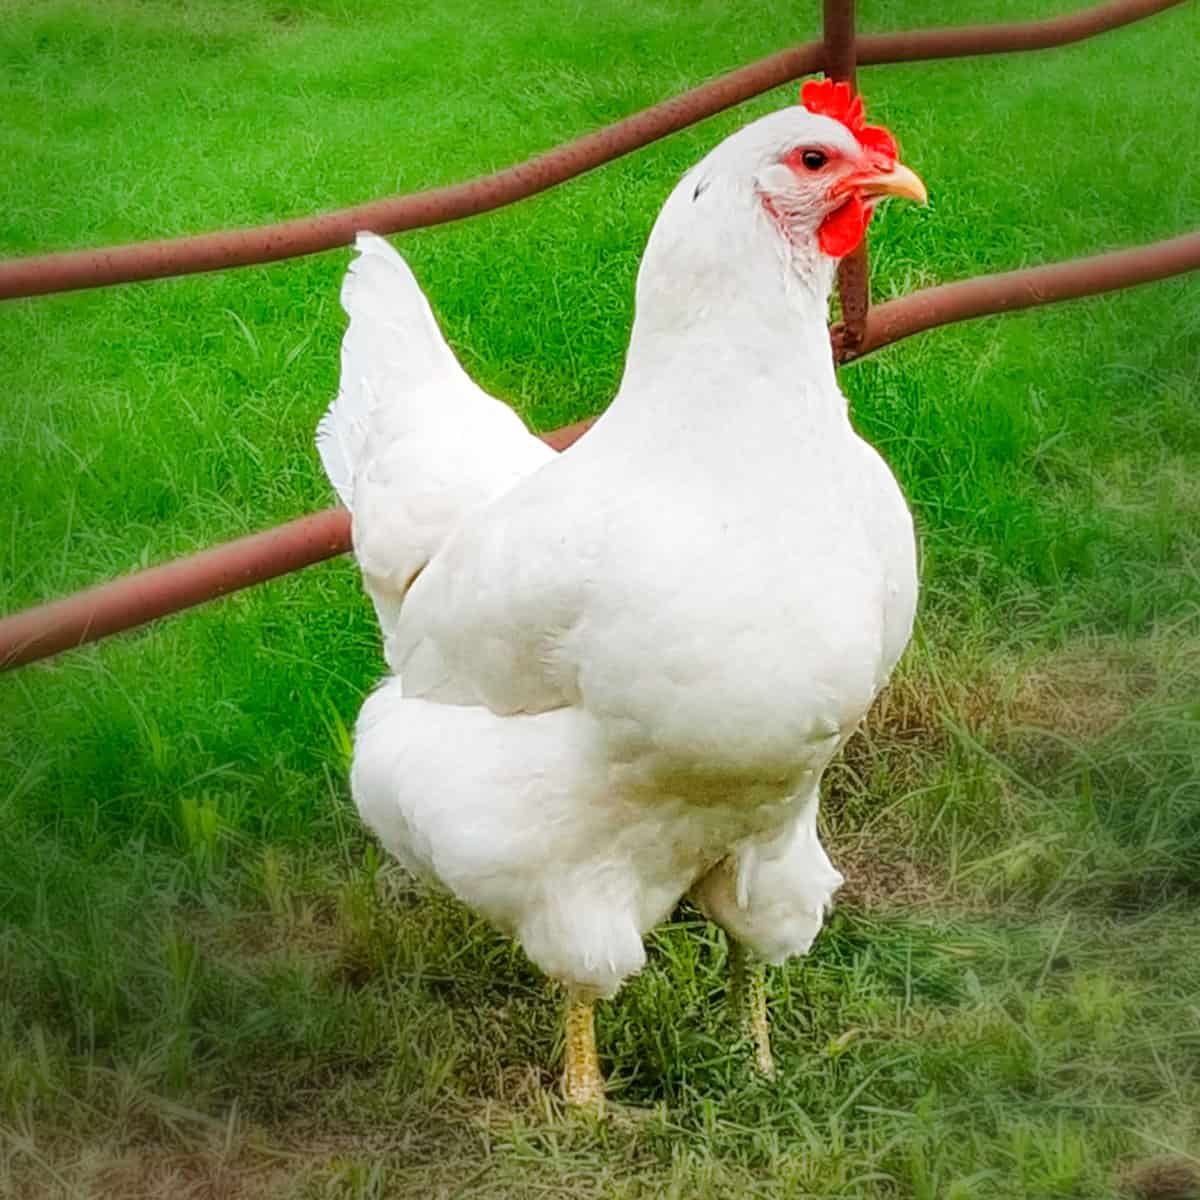Healthy: (305, 78, 919, 1101)
